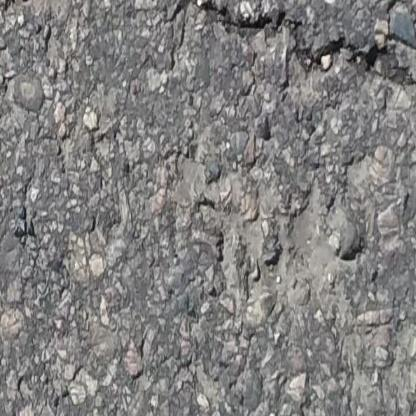Cracks: (142, 0, 416, 113)
